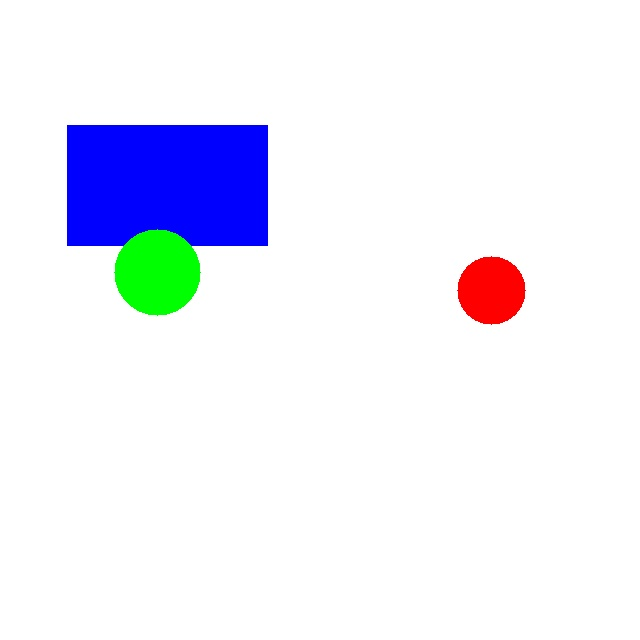cartao: (67, 125, 267, 245)
rosca_externa: (114, 229, 200, 315)
rosca_interna: (457, 256, 525, 324)
